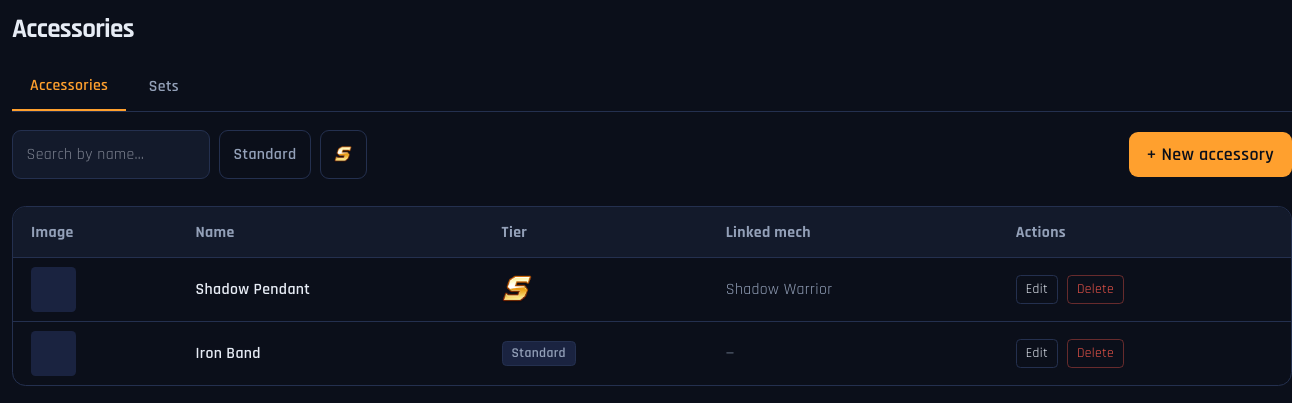
it: AdminAccessoriesPage › filters the list by name search
expect the link "Shadow Pendant" is shown: met, box top-left (196, 279), bottom-right (310, 299)
expect the link "Iron Band" is shown: met, box top-left (196, 343), bottom-right (261, 363)
Type "iron" into the search field labelled "Search by name" at (111, 155), box top-left (12, 130), bottom-right (210, 180)
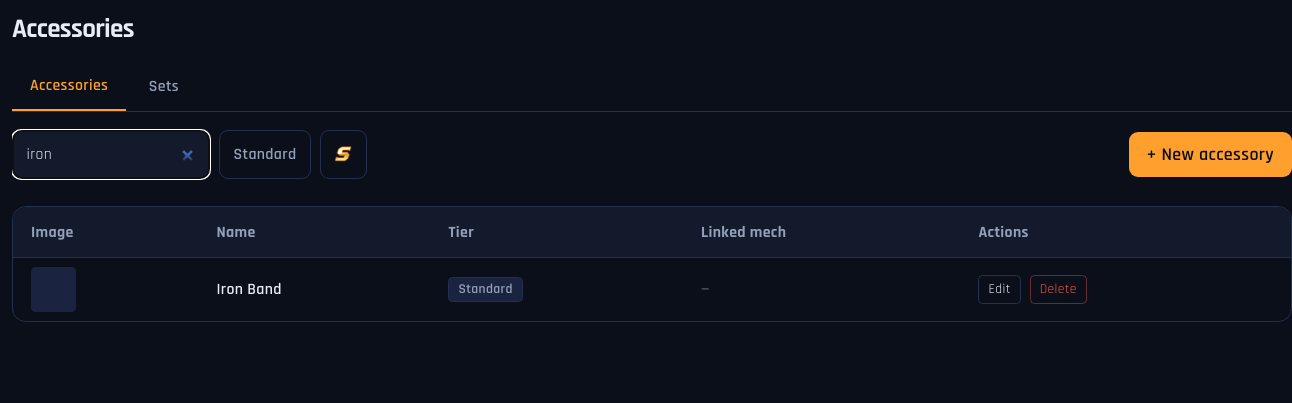
expect the link "Iron Band" is shown: met, box top-left (216, 279), bottom-right (282, 299)
expect the link "Shadow Pendant" is gone: met
